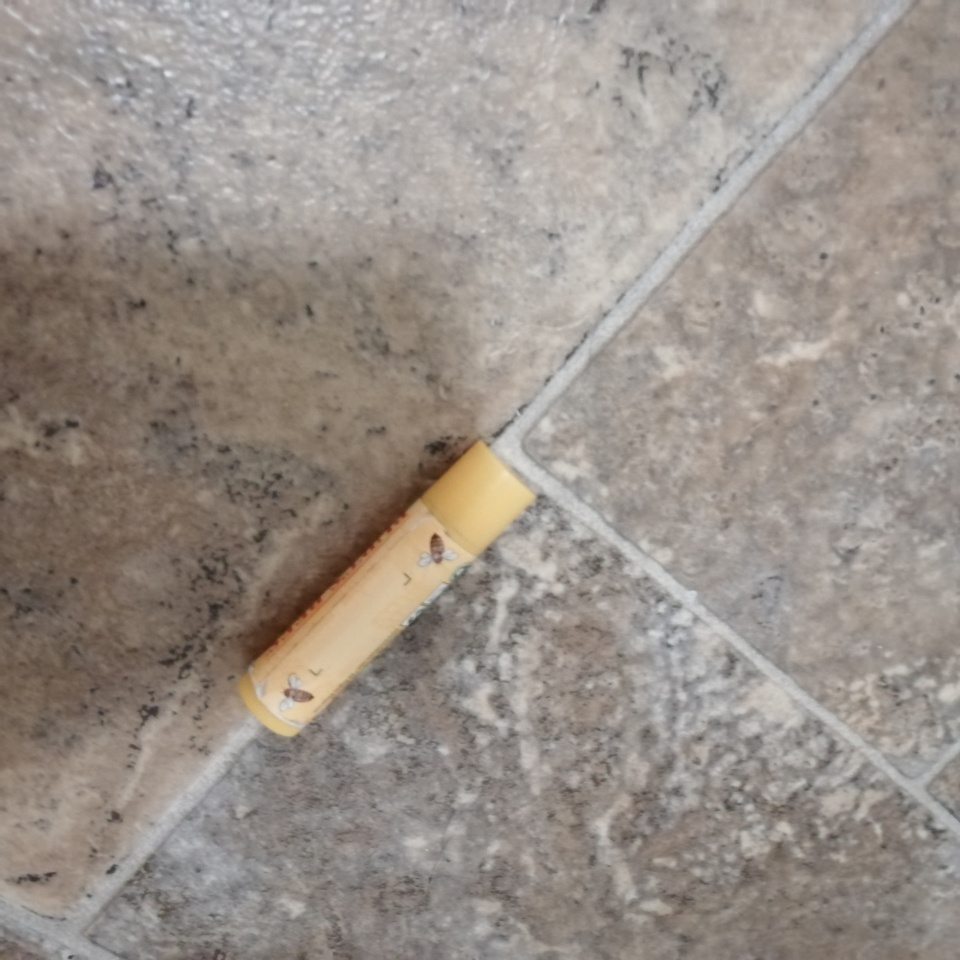chapstick: (239, 437, 539, 737)
